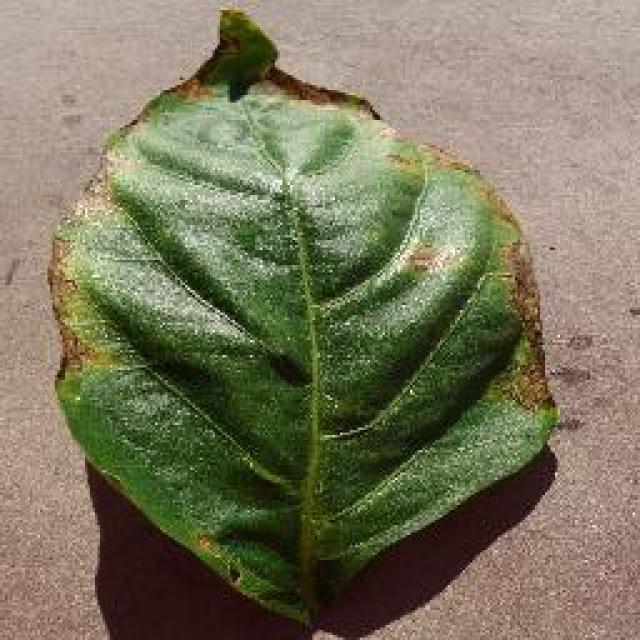Chilli_Bacterial_Spot: (42, 5, 562, 630), (185, 3, 280, 105), (400, 238, 442, 280), (190, 527, 218, 555)
